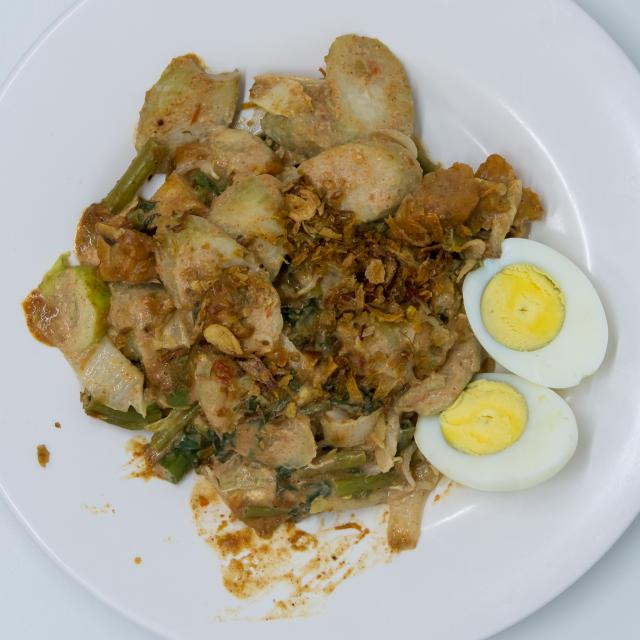Gado-Gado: (25, 18, 625, 566)
